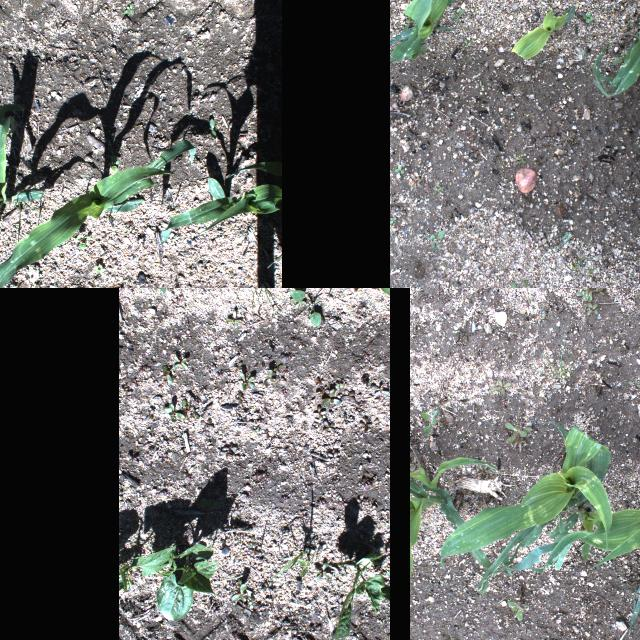crop: (438, 421, 612, 597), (0, 136, 198, 288), (501, 450, 640, 640), (156, 160, 280, 258), (409, 456, 499, 586), (0, 101, 43, 288), (390, 0, 500, 63), (577, 0, 640, 98), (155, 543, 219, 621), (331, 548, 385, 640), (508, 7, 578, 59), (548, 494, 596, 564), (118, 544, 176, 590), (294, 557, 310, 575)
weed: (530, 324, 576, 384), (236, 288, 282, 316), (290, 288, 320, 326), (271, 551, 303, 577), (504, 421, 530, 445), (316, 386, 340, 408), (418, 410, 438, 436), (510, 146, 528, 174), (422, 230, 446, 250), (390, 160, 410, 184), (507, 599, 528, 621), (73, 231, 95, 251), (408, 171, 426, 193), (162, 404, 184, 421), (236, 578, 254, 598), (491, 378, 512, 394), (555, 232, 573, 250), (118, 0, 138, 16), (264, 252, 280, 272), (428, 183, 444, 203), (230, 583, 246, 603), (313, 560, 329, 580), (239, 371, 255, 391), (204, 115, 218, 137), (570, 252, 586, 270), (289, 294, 307, 310), (370, 382, 390, 396), (226, 309, 240, 329), (172, 354, 188, 371), (160, 363, 174, 382), (580, 8, 596, 24), (447, 7, 463, 23), (234, 599, 250, 615), (262, 368, 276, 386), (106, 153, 120, 170), (339, 388, 356, 402), (574, 288, 592, 301), (321, 418, 335, 434), (312, 406, 326, 420), (358, 417, 372, 431), (334, 596, 346, 612), (199, 417, 213, 429), (585, 302, 599, 314), (524, 281, 547, 288), (250, 470, 266, 480), (180, 398, 188, 417), (93, 260, 105, 272), (260, 580, 272, 592), (220, 442, 238, 450), (246, 535, 256, 549), (218, 448, 232, 458), (390, 212, 399, 227), (462, 35, 472, 47), (248, 545, 260, 555), (335, 539, 345, 551), (144, 408, 154, 420), (188, 408, 200, 418), (271, 362, 283, 372), (174, 292, 183, 304), (235, 391, 243, 404), (298, 546, 308, 556), (338, 498, 348, 508), (232, 362, 242, 372), (121, 389, 131, 399), (137, 364, 147, 374), (167, 410, 175, 422), (327, 288, 338, 296), (626, 382, 640, 388), (360, 478, 368, 488), (188, 396, 198, 404), (184, 402, 193, 410), (362, 349, 370, 358), (635, 137, 640, 151), (201, 426, 209, 434), (314, 376, 322, 384), (132, 378, 138, 387), (594, 288, 604, 293), (247, 600, 253, 608), (251, 427, 259, 433), (540, 311, 548, 317), (452, 328, 460, 334), (264, 427, 268, 437), (334, 384, 344, 388), (621, 572, 627, 578), (557, 610, 563, 616), (528, 296, 534, 302), (637, 557, 640, 567), (152, 288, 157, 291)
